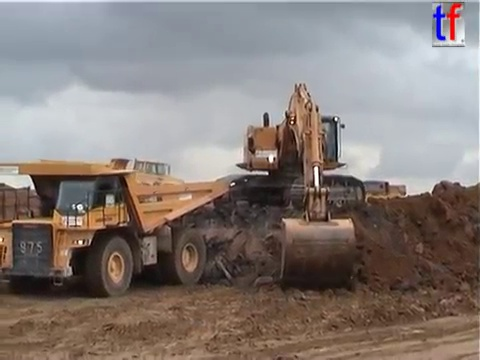excavator: (210, 80, 369, 295)
truck: (1, 160, 232, 299), (34, 155, 174, 203), (357, 179, 408, 208)
